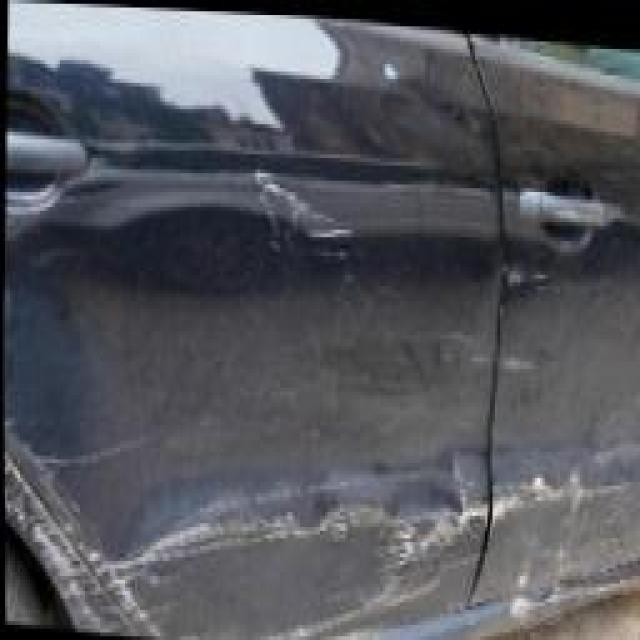Door: (0, 0, 502, 640), (482, 30, 640, 640)
